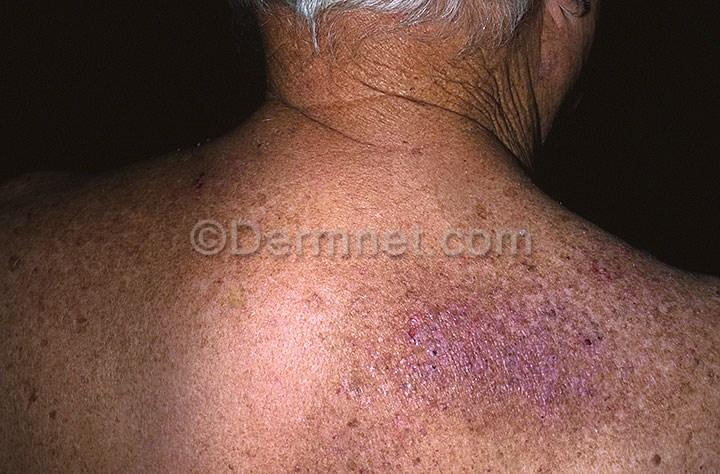Eczema: (411, 256, 522, 405), (501, 262, 597, 388), (287, 278, 393, 385), (4, 274, 99, 381), (5, 184, 96, 289), (594, 263, 698, 352), (570, 344, 656, 440), (433, 175, 530, 260), (361, 294, 446, 386), (101, 180, 197, 260), (327, 375, 418, 454), (417, 380, 500, 462), (103, 249, 181, 330), (506, 382, 570, 472), (222, 182, 292, 263), (180, 252, 253, 326), (545, 215, 623, 280), (226, 130, 286, 194), (185, 159, 241, 211), (398, 126, 435, 180)
